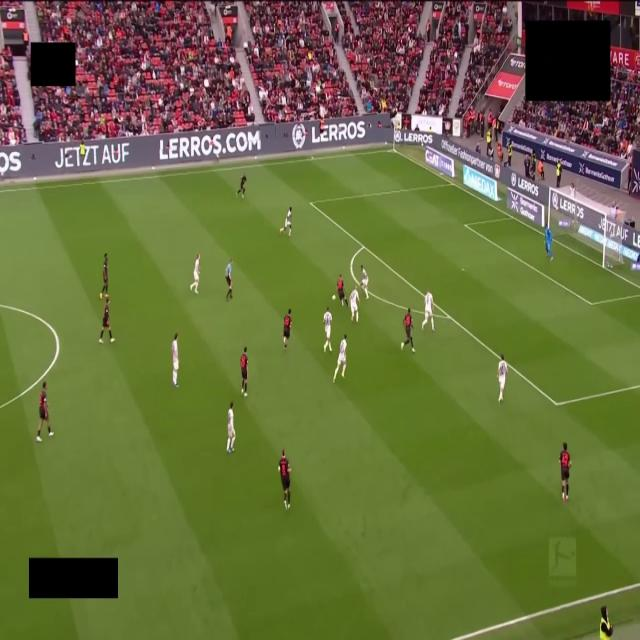ball: (332, 295, 335, 300)
player: (36, 382, 53, 442), (99, 295, 114, 343), (559, 443, 571, 501), (333, 334, 347, 382), (279, 449, 290, 510), (401, 309, 415, 352), (497, 355, 508, 403), (422, 292, 434, 330), (171, 332, 179, 388), (227, 402, 235, 453), (323, 307, 332, 352), (240, 347, 248, 397), (279, 207, 292, 236), (190, 254, 199, 294), (100, 254, 108, 299), (283, 309, 291, 349), (350, 288, 359, 322), (337, 274, 345, 305), (545, 225, 552, 260), (361, 265, 368, 298), (237, 174, 246, 199)
referee: (225, 260, 232, 301)
